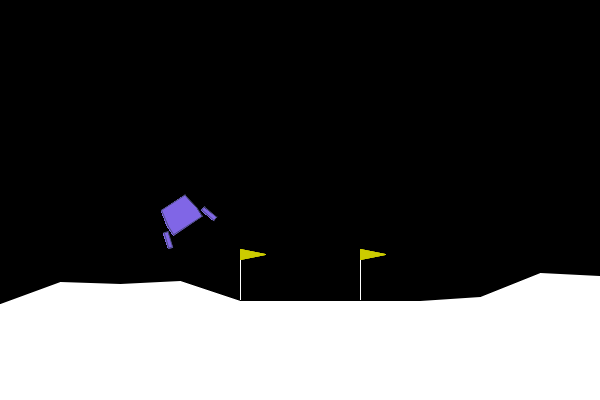lander: (146, 185, 219, 251)
